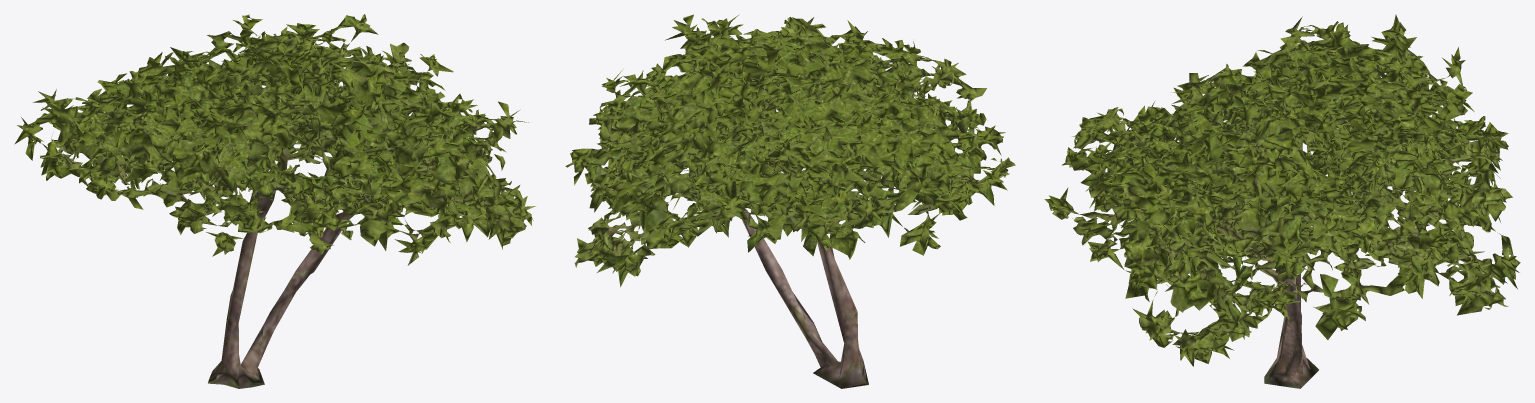
File: env-tree1.glb
3 renders of one model, left to right at view 1: azimuth 30°, elevation 25°; view 2: azimuth 150°, elevation 25°; view 3: azimuth 270°, elevation 25°, orthographic. The views are drawn at different scales.
Parts seen in each view (by area): view 1: Meshy_AI_Twin_Canopy_Tree_0909082148_texture; view 2: Meshy_AI_Twin_Canopy_Tree_0909082148_texture; view 3: Meshy_AI_Twin_Canopy_Tree_0909082148_texture.
Boxes of the visible parts, box(x1,y1,x2,y2) form: Meshy_AI_Twin_Canopy_Tree_0909082148_texture: box(14, 14, 535, 388); Meshy_AI_Twin_Canopy_Tree_0909082148_texture: box(565, 14, 1015, 388); Meshy_AI_Twin_Canopy_Tree_0909082148_texture: box(1044, 14, 1520, 388).
Size of the model in its own units: 1.85 by 1.28 by 1.71.
Materials: 1 (1 with a texture image).
